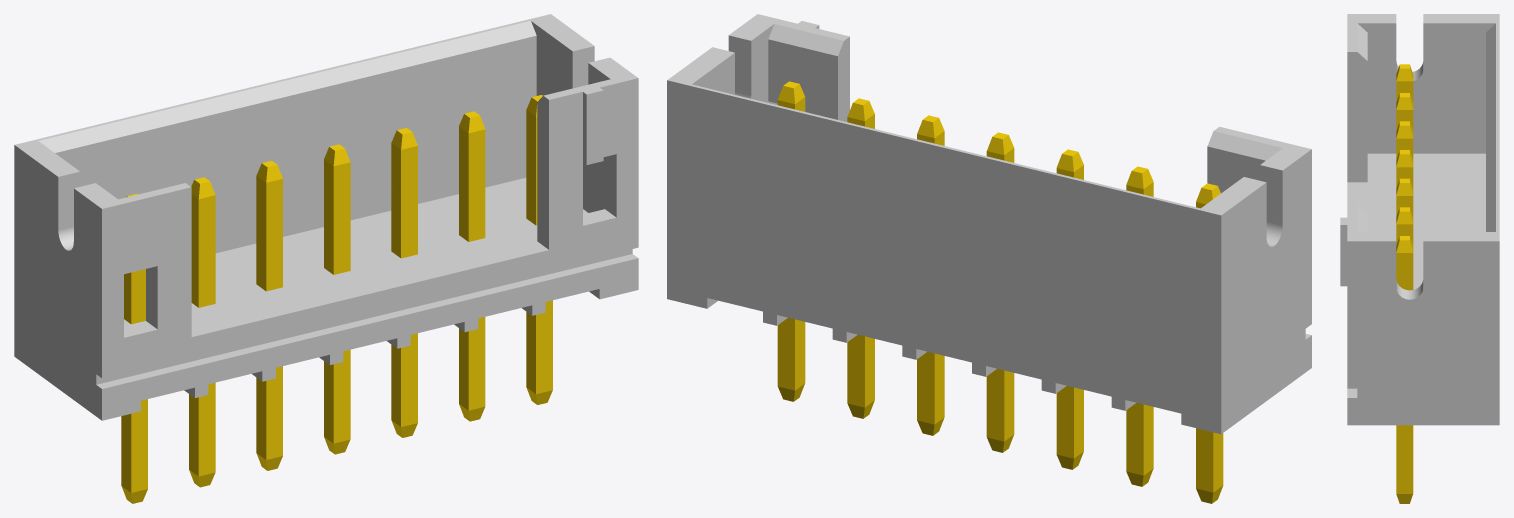
3 renders of one model, left to right at view 1: azimuth 30°, elevation 25°; view 2: azimuth 150°, elevation 25°; view 3: azimuth 270°, elevation 25°, orthographic. The views are drawn at different scales.
Parts seen in each view (by area): view 1: BxB-PH-K-S; view 2: BxB-PH-K-S; view 3: BxB-PH-K-S.
Part boxes in pixels (x1,y1,x2,y2): BxB-PH-K-S: (14,14,638,503); BxB-PH-K-S: (667,14,1311,503); BxB-PH-K-S: (1340,14,1499,503).
Bounding box in the file's own units: 0.0159 × 0.0094 × 0.0047.
